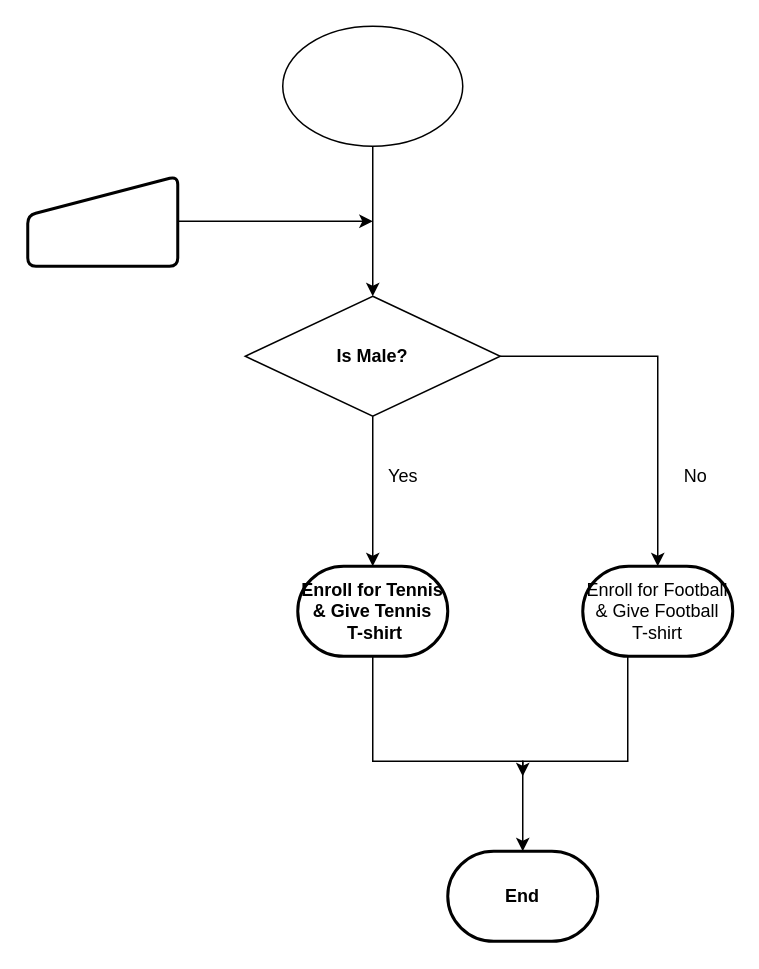
Image size: 759x969. Some labels were removed from this diagram. Each missing label, with the centre of its shape:
"Input Age, Gender" belongs at point (102, 220).
"Start" belongs at point (372, 85).
